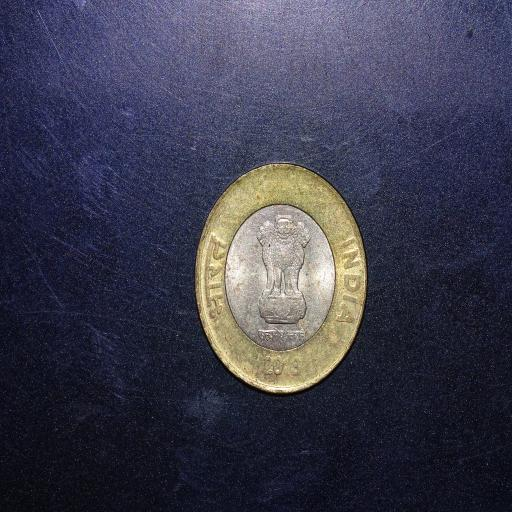rupee10: (192, 164, 373, 398)
